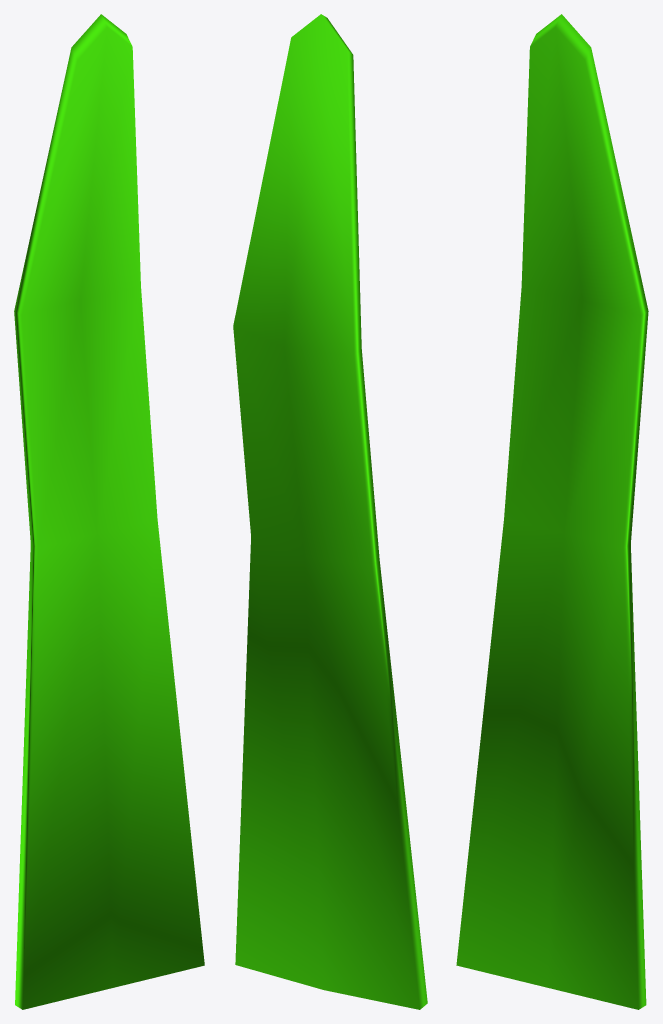
Rendered from Hierba_02.fbx.
3 renders of one model, left to right at view 1: azimuth 30°, elevation 25°; view 2: azimuth 150°, elevation 25°; view 3: azimuth 330°, elevation 25°, orthographic.
Parts seen in each view (by area): view 1: SM_Hierba_02; view 2: SM_Hierba_02; view 3: SM_Hierba_02.
Boxes of the visible parts, x1,y1,x2,y2 form: SM_Hierba_02: (14,14,204,1009); SM_Hierba_02: (233,14,427,1009); SM_Hierba_02: (456,14,648,1009).
Size of the model in its own units: 4.94 by 24.98 by 2.33.
